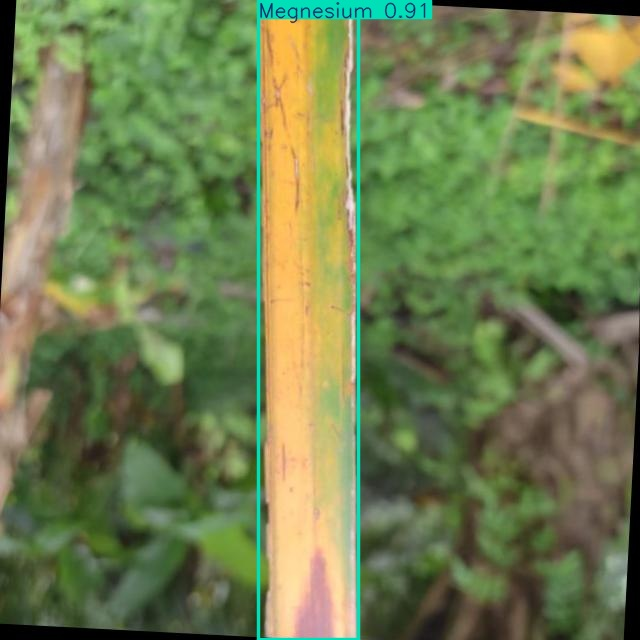Megnesium: (258, 0, 359, 640)
